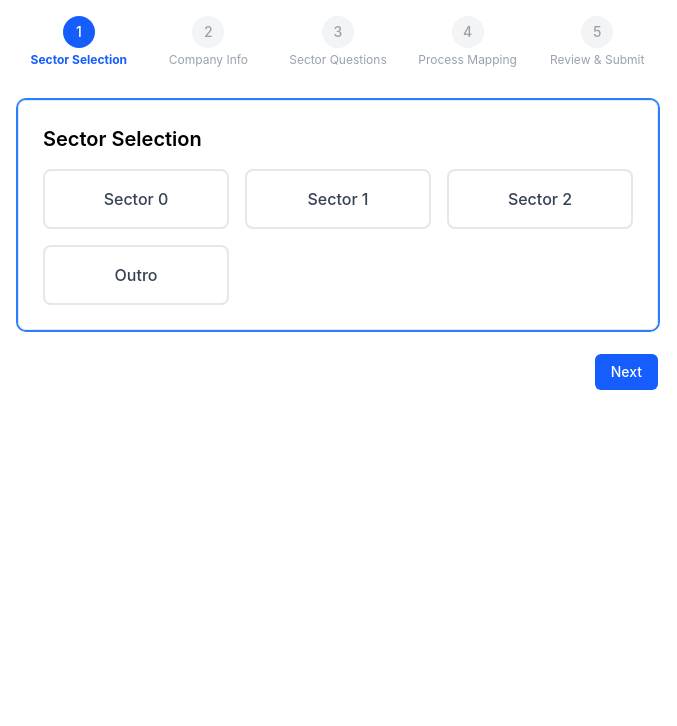
Test case: ScanForm — Step 2 Validation › shows error messages for empty required fields on step 2
Click the button "Sector 0" at x=136, y=199, box [43,169,229,229]
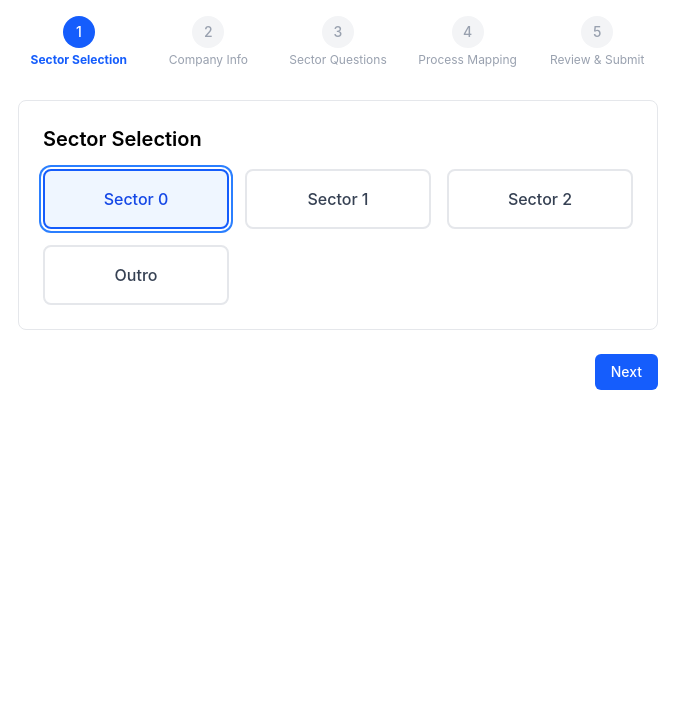
Click the button "Next" at x=626, y=372, box [595,354,658,390]
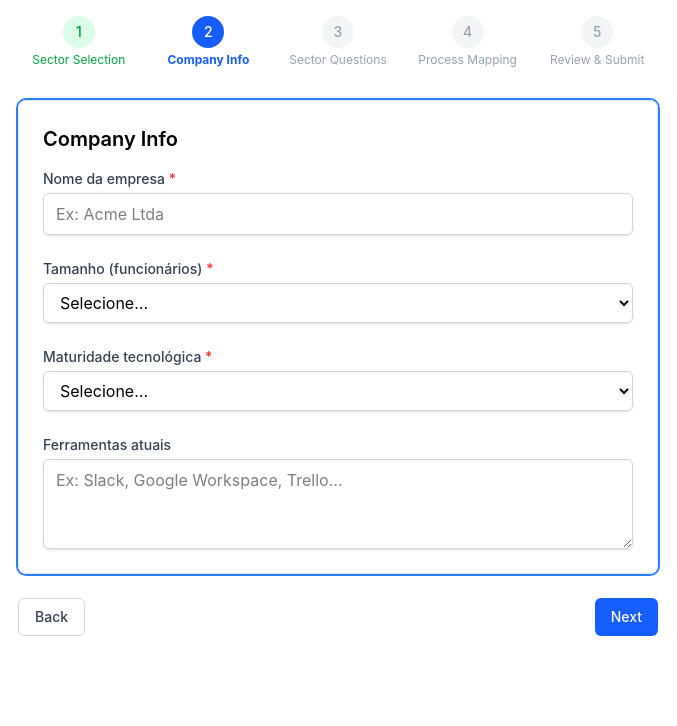
Click the button "Next" at x=626, y=617, box [595,598,658,636]
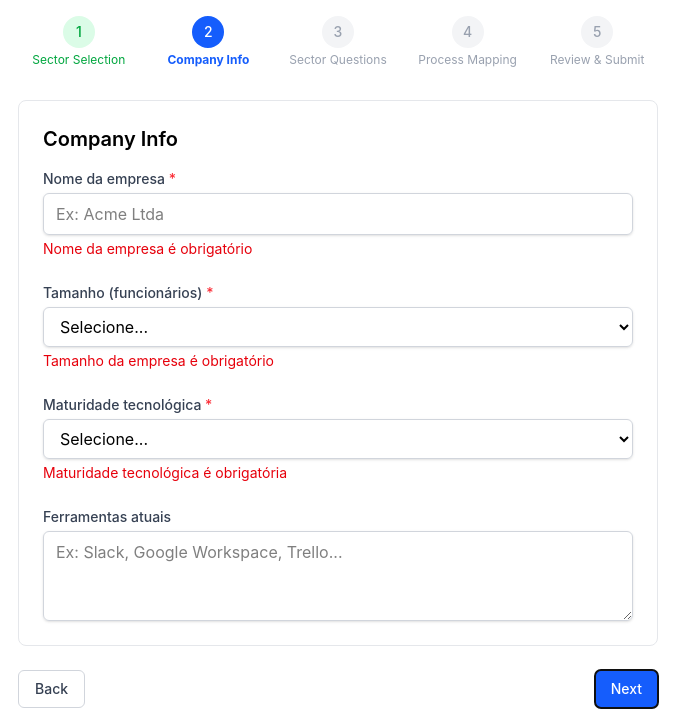
Expected: the text "Nome da empresa é obrigatório" is shown, [43,240,252,257]
Expected: the text "Tamanho da empresa é obrigatório" is shown, [43,352,274,369]
Expected: the text "Maturidade tecnológica é obrigatória" is shown, [43,464,287,481]
